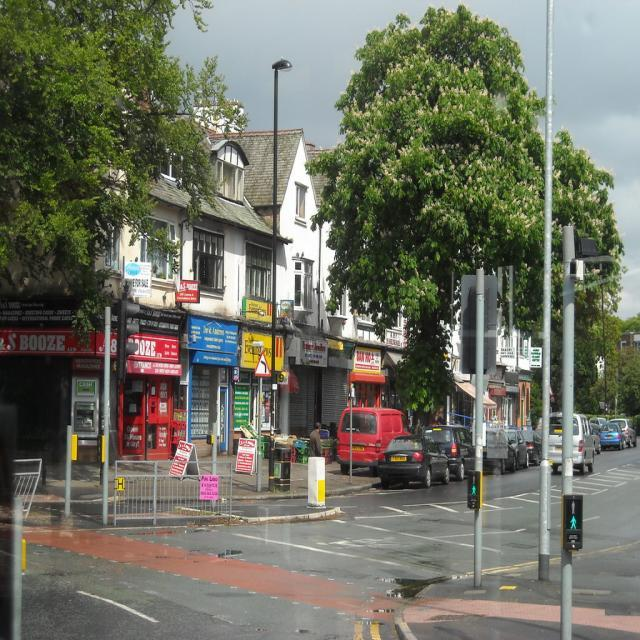off traffic light: (115, 299, 141, 379)
road_sign: (253, 352, 272, 376)
traffic light: (563, 494, 584, 549), (467, 470, 481, 509)
